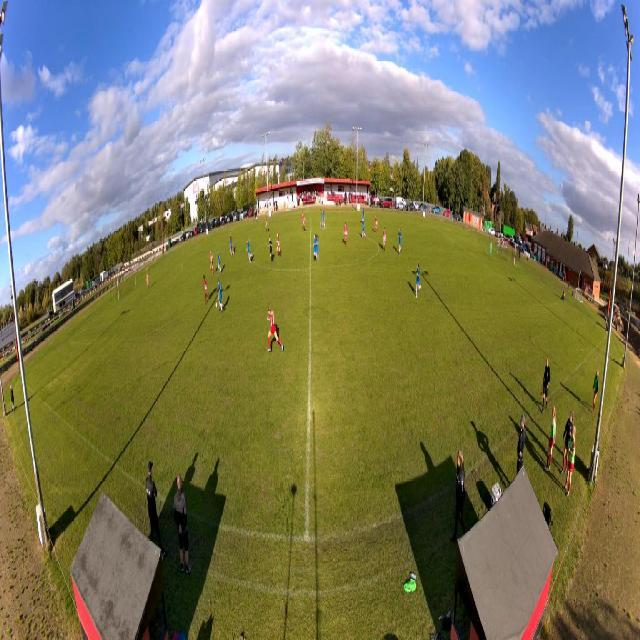ball: (215, 302, 218, 309)
player: (266, 305, 284, 354), (415, 263, 422, 300), (217, 277, 224, 314), (203, 272, 210, 306), (246, 238, 254, 265), (313, 232, 319, 262), (268, 235, 274, 263), (209, 249, 215, 276), (276, 232, 282, 258), (216, 250, 222, 275), (343, 221, 348, 247), (301, 211, 307, 232), (362, 217, 367, 241), (229, 232, 235, 251), (398, 227, 402, 255), (230, 236, 235, 257), (383, 227, 387, 252), (265, 215, 270, 233), (322, 210, 326, 231), (374, 215, 378, 236), (489, 240, 493, 259), (146, 271, 150, 290), (361, 207, 365, 224)
